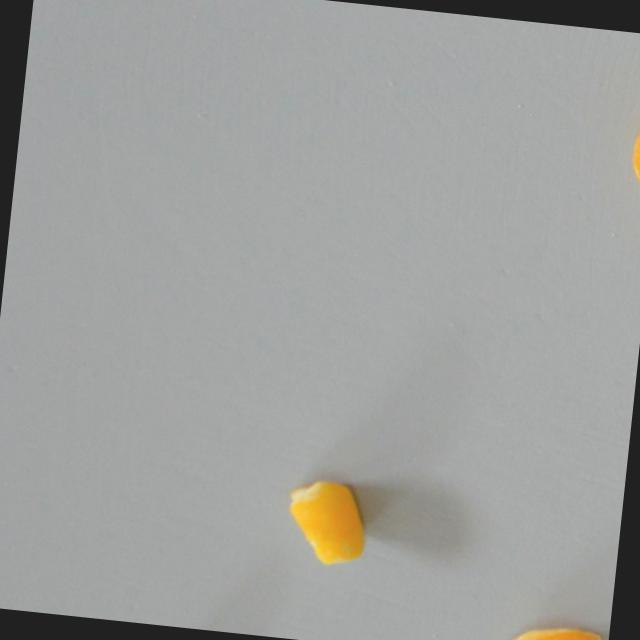dañado: (277, 468, 377, 575), (618, 69, 640, 217), (498, 615, 610, 640)
